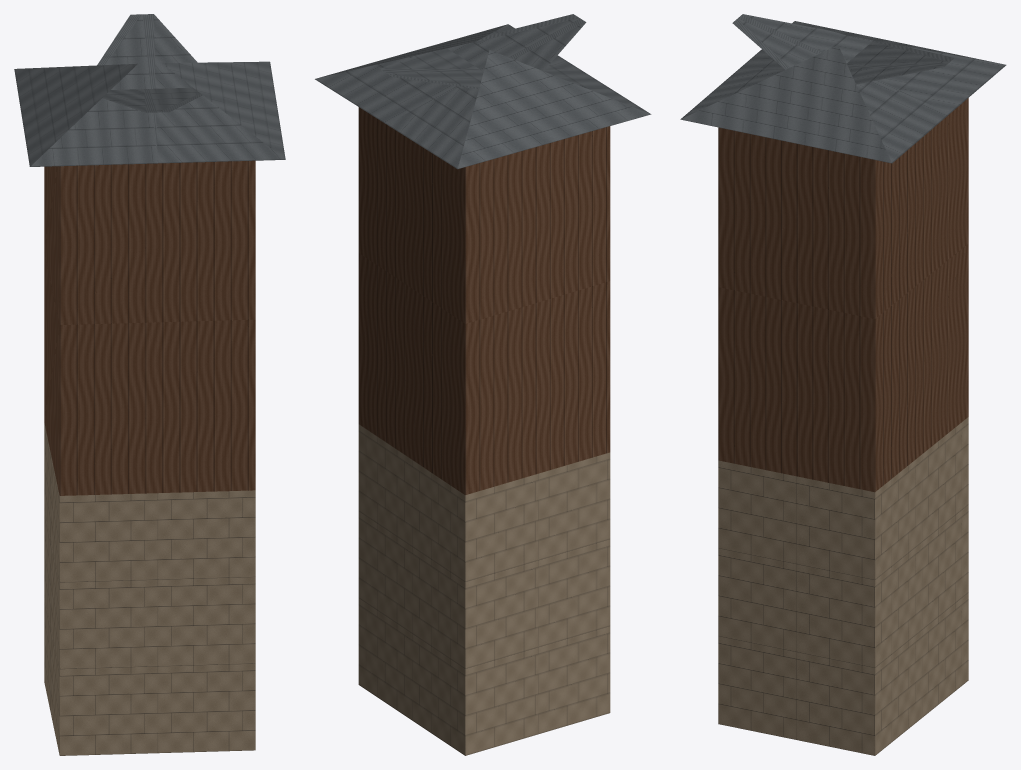
Rendered from bld_c16_43_450.gltf.
3 views of the same model, side by side, from view 1: azimuth 30°, elevation 25°; view 2: azimuth 150°, elevation 25°; view 3: azimuth 270°, elevation 25° (orthographic).
Visible parts, largest first — view 1: bld_c16_43_450; view 2: bld_c16_43_450; view 3: bld_c16_43_450.
Boxes of the visible parts, left/top/right/bottom form: bld_c16_43_450: left=14, top=14, right=285, bottom=755; bld_c16_43_450: left=315, top=14, right=651, bottom=755; bld_c16_43_450: left=680, top=14, right=1006, bottom=755.
Size of the model in its own units: 5.92 by 12.8 by 5.72.
Materials: 3 (3 with a texture image).
